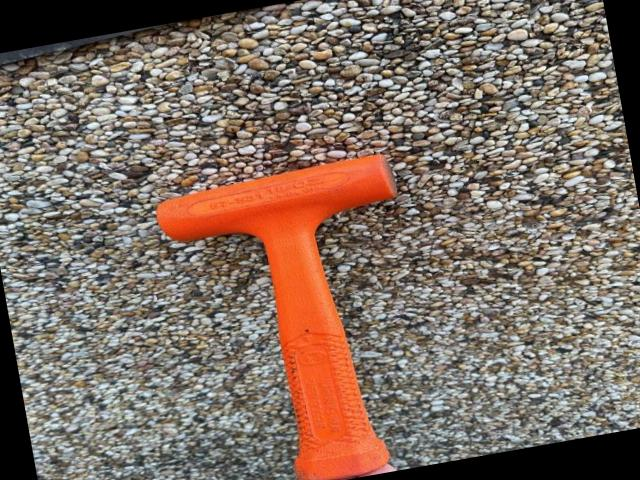hammer: (148, 152, 442, 480)
